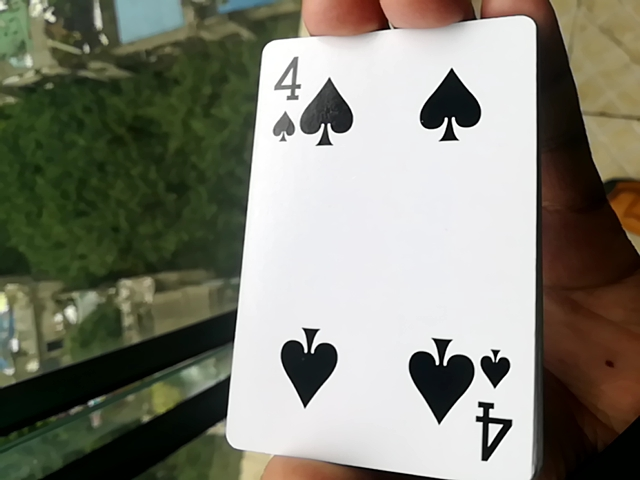ht 4: (212, 4, 533, 480)
